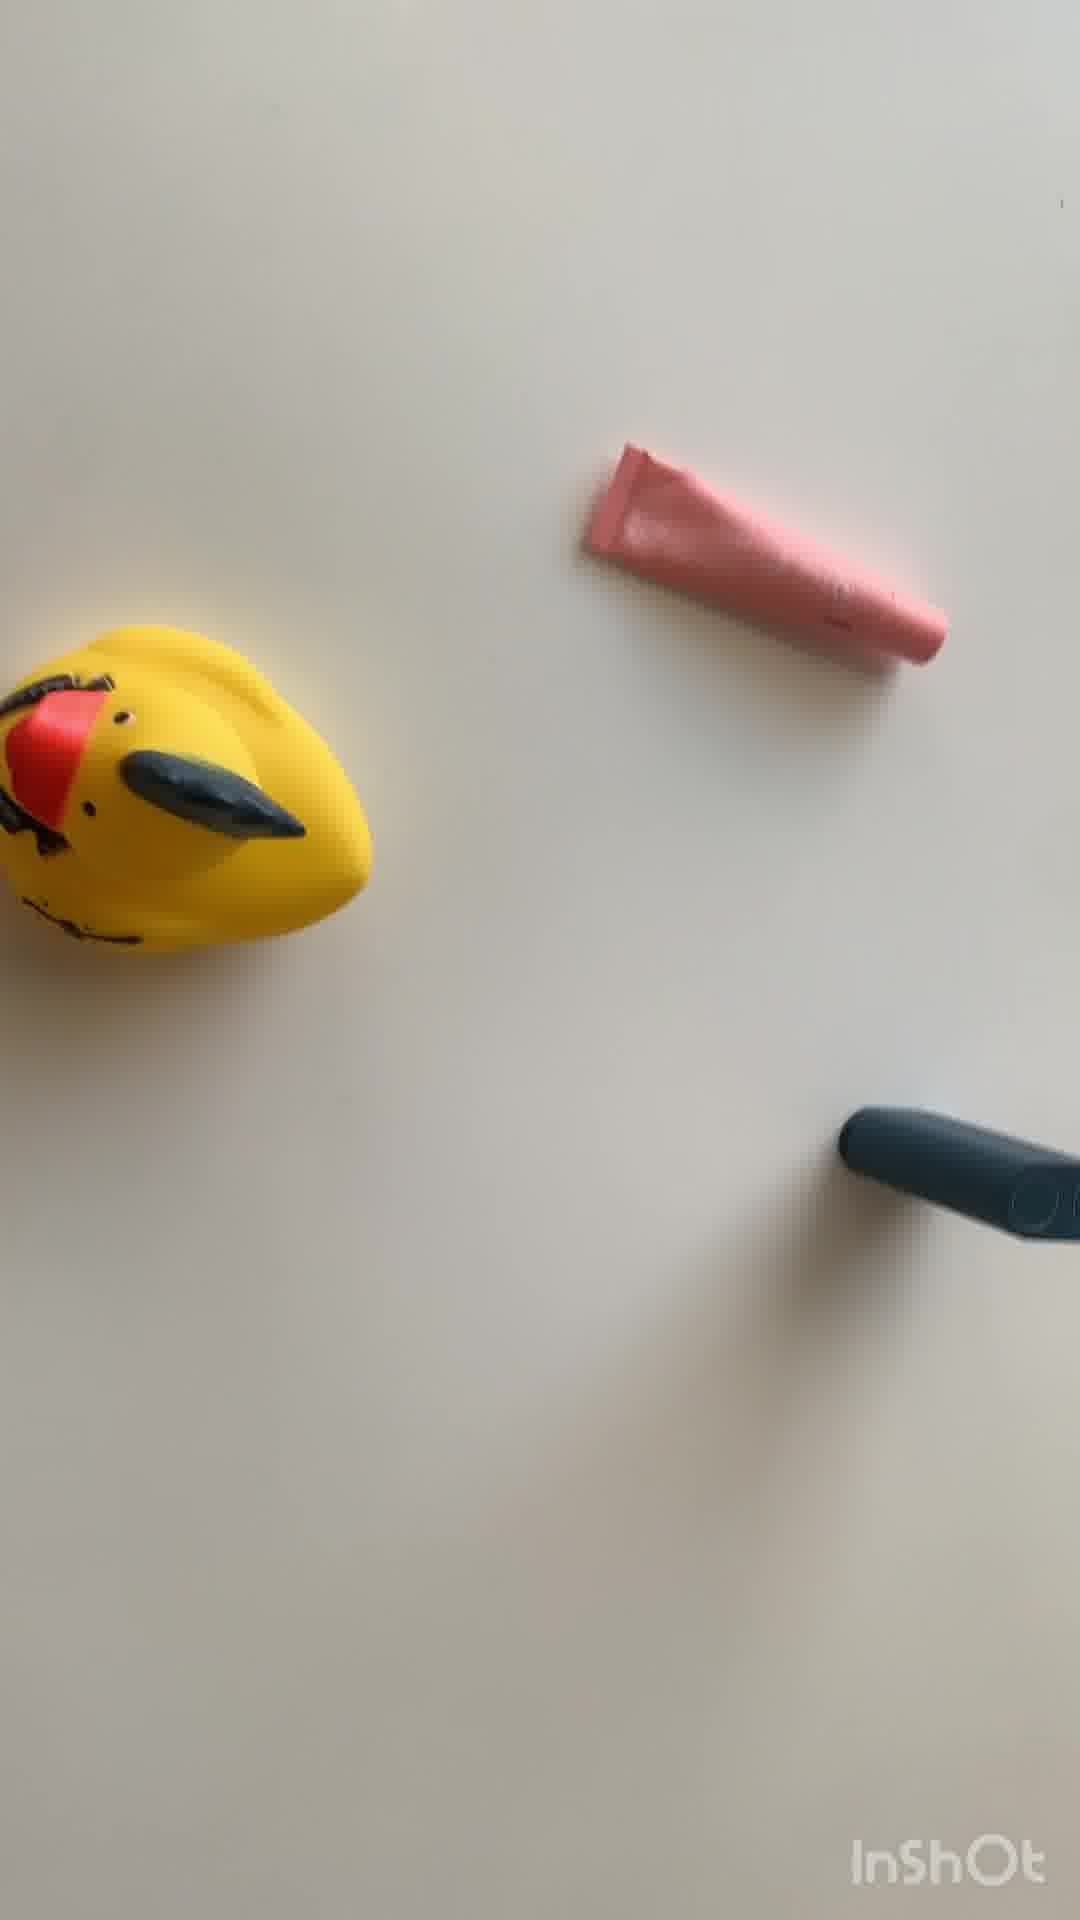duck: (1, 621, 382, 945)
glo: (833, 1108, 1080, 1241)
lip balm: (582, 452, 956, 675)
